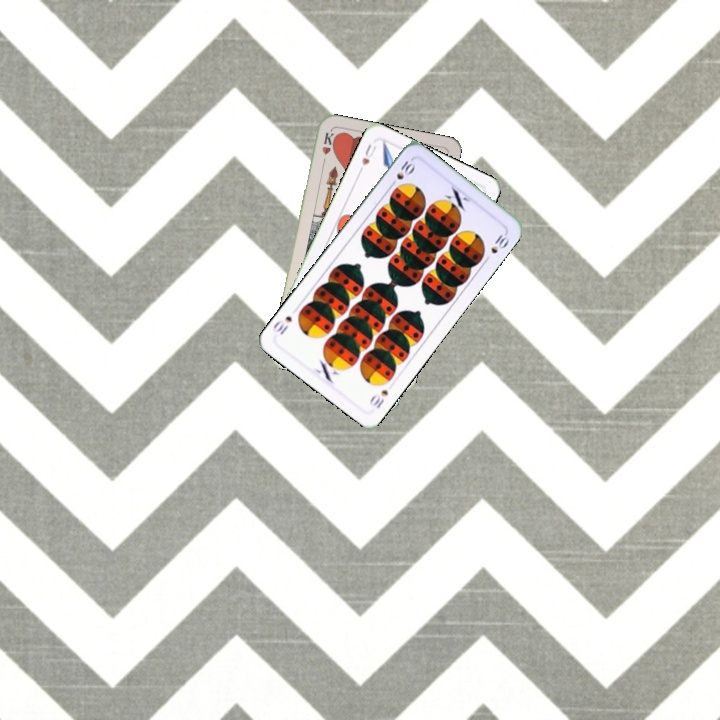HK: (318, 128, 337, 168)
HU: (355, 140, 379, 175)
S10: (386, 156, 418, 190), (370, 386, 391, 412)
